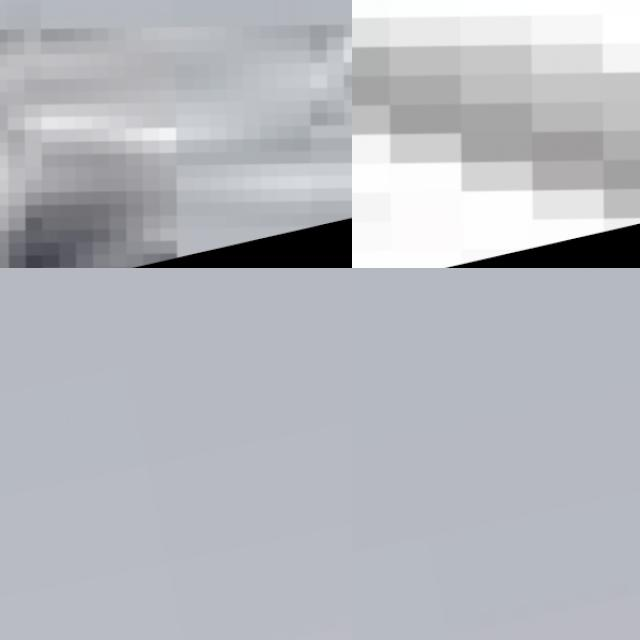0: (0, 0, 352, 268)
drone: (352, 0, 640, 268)
